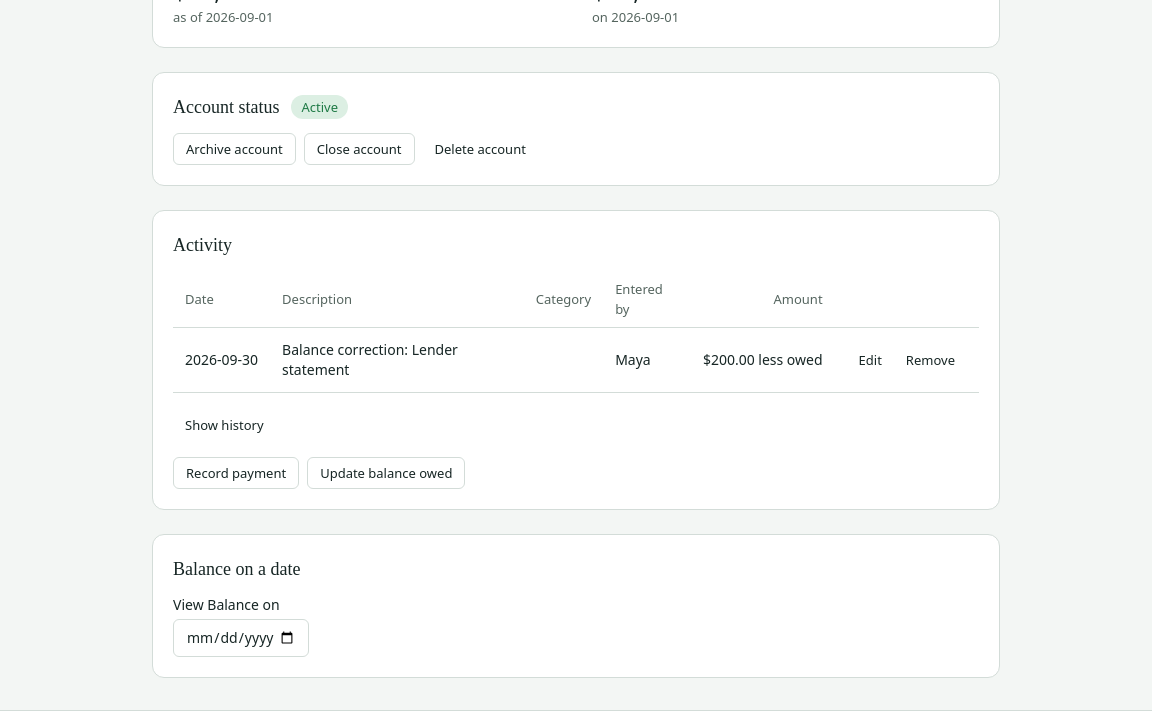
a dated correction of the balance owed › V2_DATED_VALUE_003 removing and restoring a correction says what changed, and the history button names the correction
This screenshot has width=1152, height=720.
(page scrolled)
Click the button with aria-label "Remove correction of" at (930, 360), box left=894, top=344, right=967, bottom=376
(page scrolled)
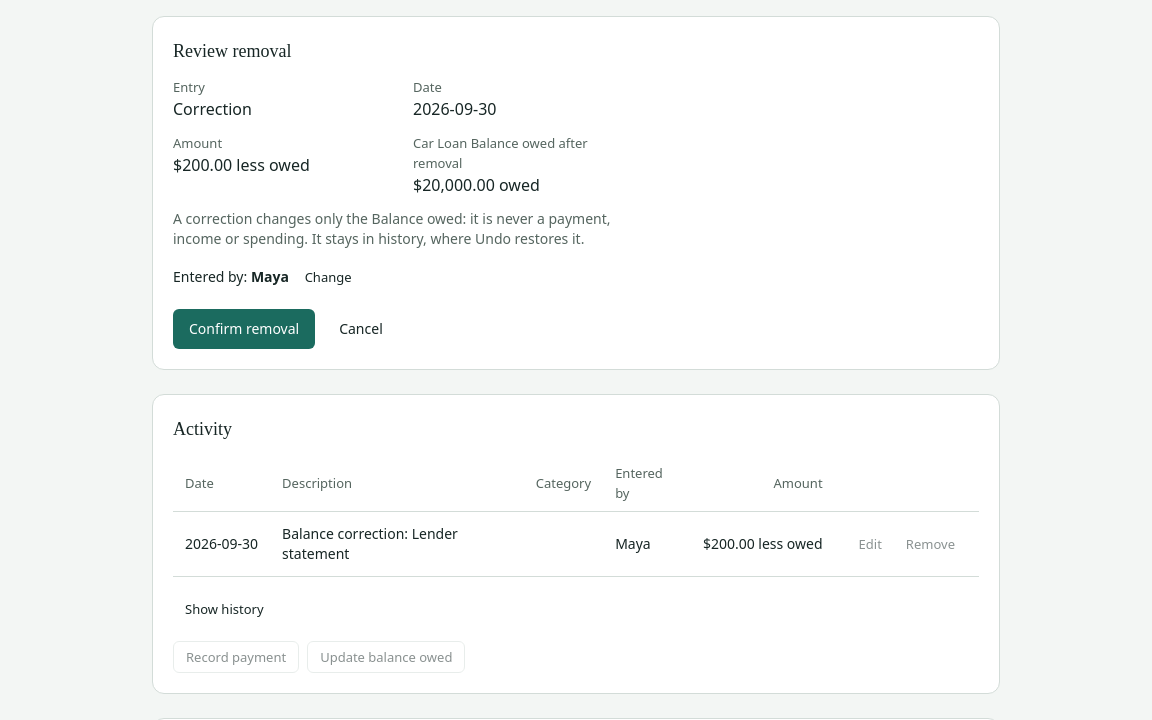
Click the button "Confirm removal" at (244, 329), box left=173, top=309, right=315, bottom=349
(page scrolled)
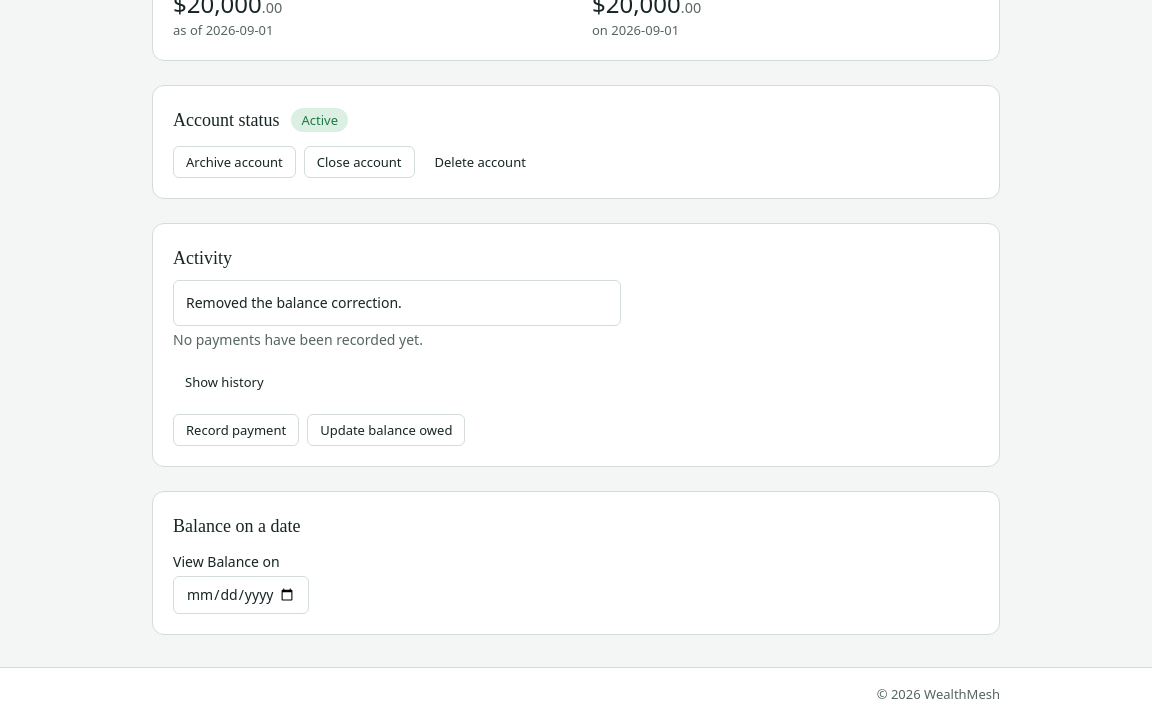
Check: the message reads "Removed the balance correction.", box left=186, top=293, right=402, bottom=312
Click the button "Show history" at (224, 382), box left=173, top=366, right=276, bottom=398
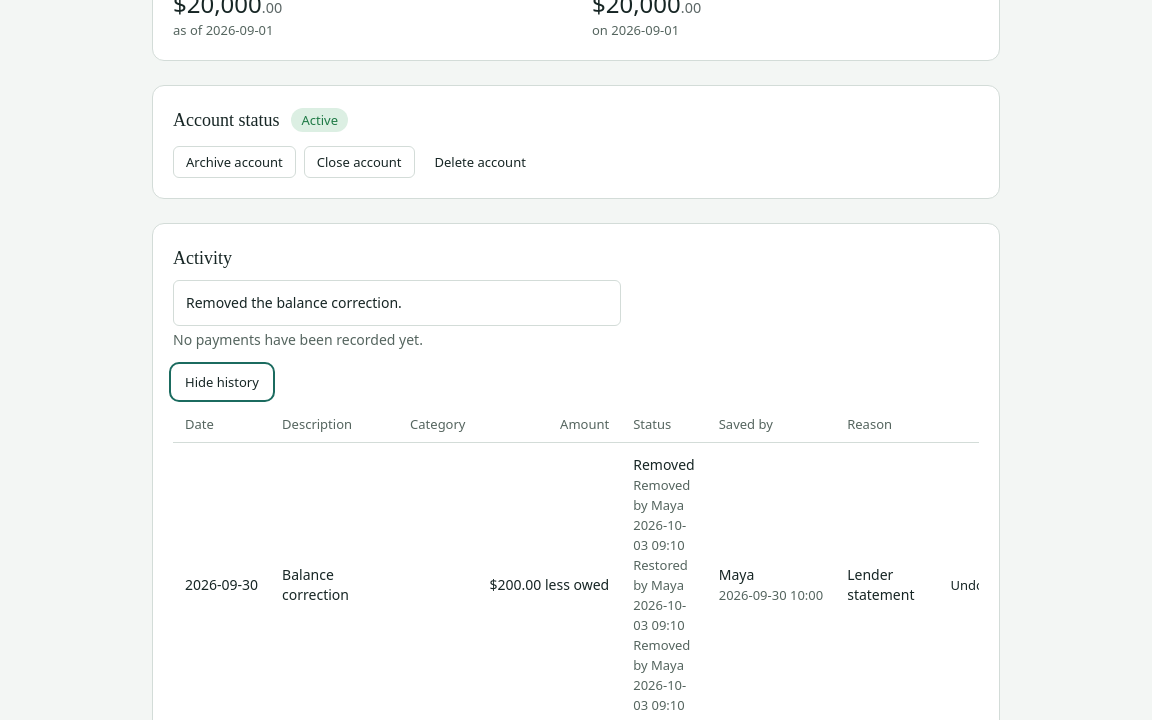
Click the button with aria-label "Undo correction of 2026-09-30" at (967, 585), box left=938, top=569, right=996, bottom=601
(page scrolled)
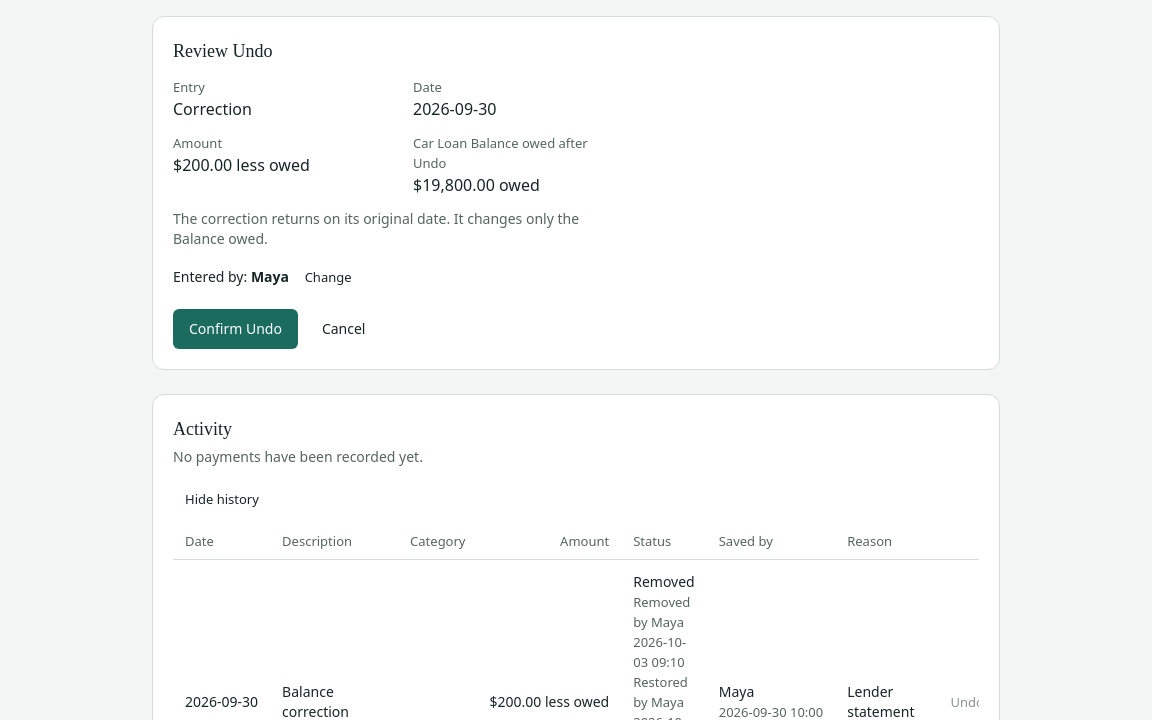
Click the button "Confirm Undo" at (235, 329), box left=173, top=309, right=298, bottom=349
(page scrolled)
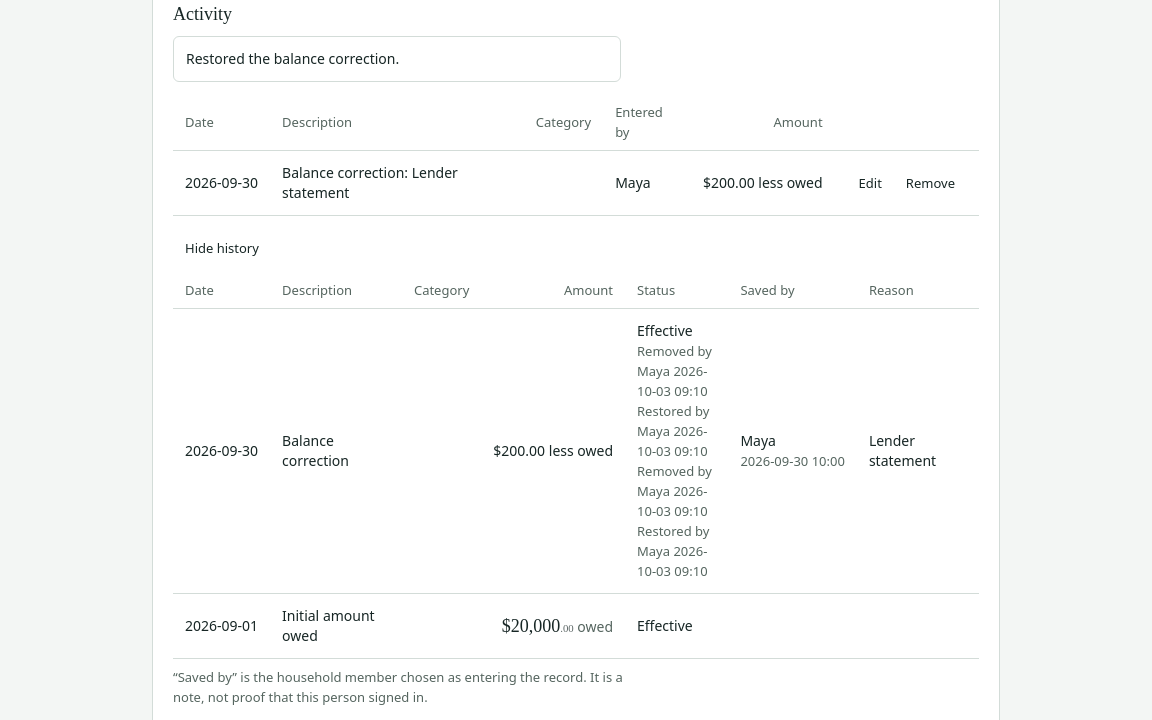
Check: the message does not show "null", box left=173, top=36, right=621, bottom=82
Check: the message reads "Restored the balance correction.", box left=186, top=49, right=399, bottom=68
